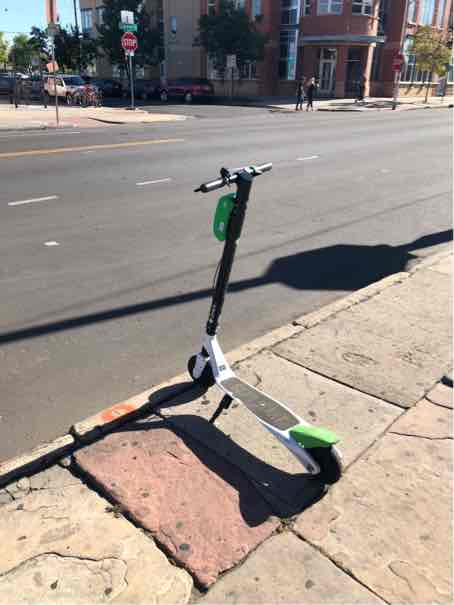scooter: (186, 151, 349, 481)
